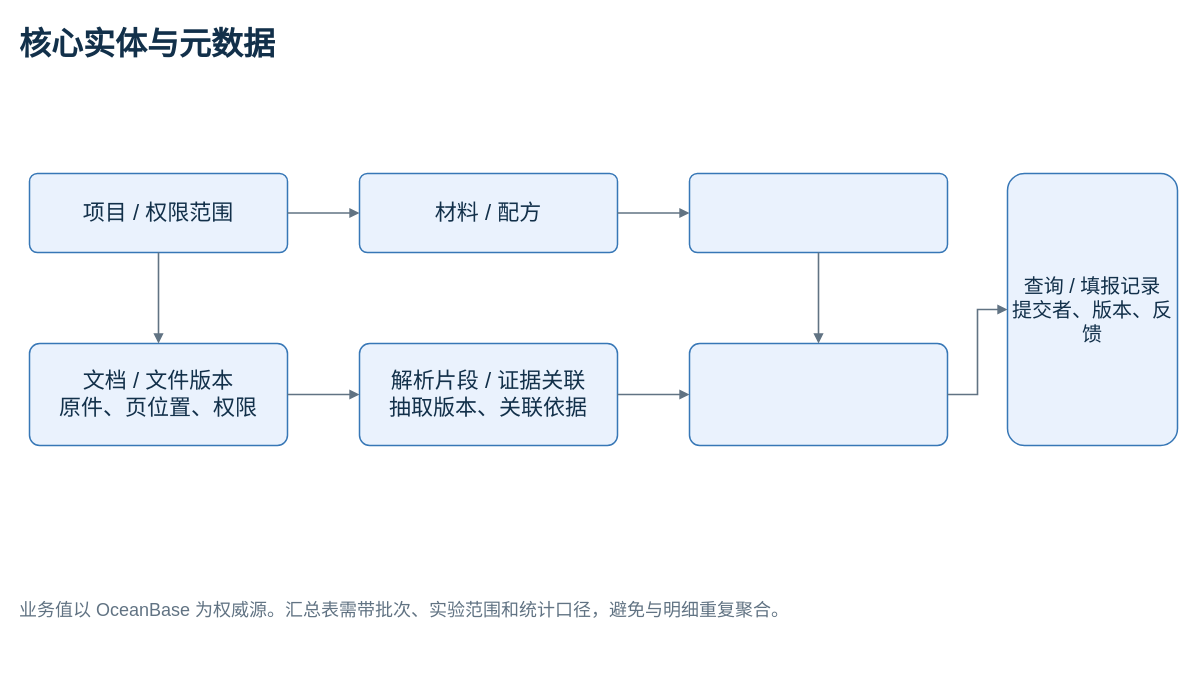
This 1198x675 diagram has some shape labels left out. The centre of each missing label's shape, as x and y in pixels:
实验明细 / 批次汇总 区分粒度与口径: pixel 818 394
电芯批次 / 单电芯 样品标识: pixel 818 212
